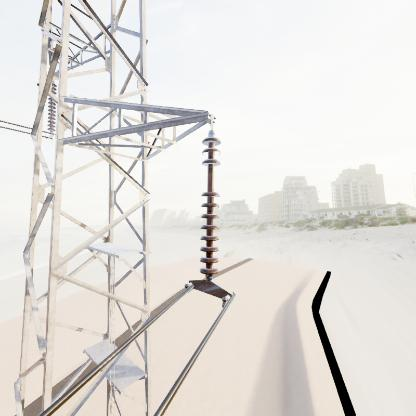insulator: (199, 134, 219, 282)
